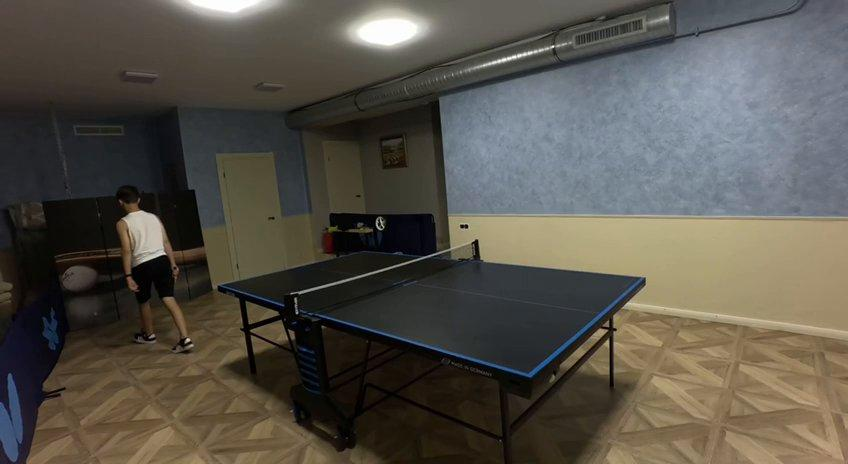Net: (283, 240, 481, 321)
Player1: (116, 185, 193, 352)
Table: (222, 253, 640, 377)
